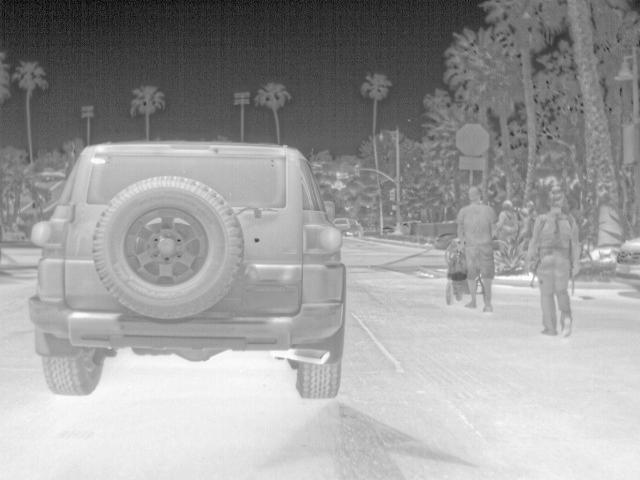car: (25, 137, 343, 401), (613, 235, 637, 296), (334, 218, 360, 236)
person: (524, 184, 581, 338), (454, 184, 493, 314), (491, 198, 521, 239)
